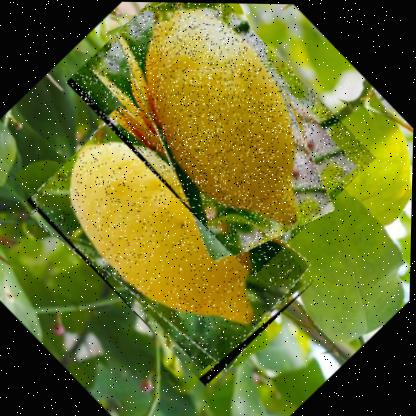lemon: (61, 1, 380, 278), (23, 92, 319, 387)
